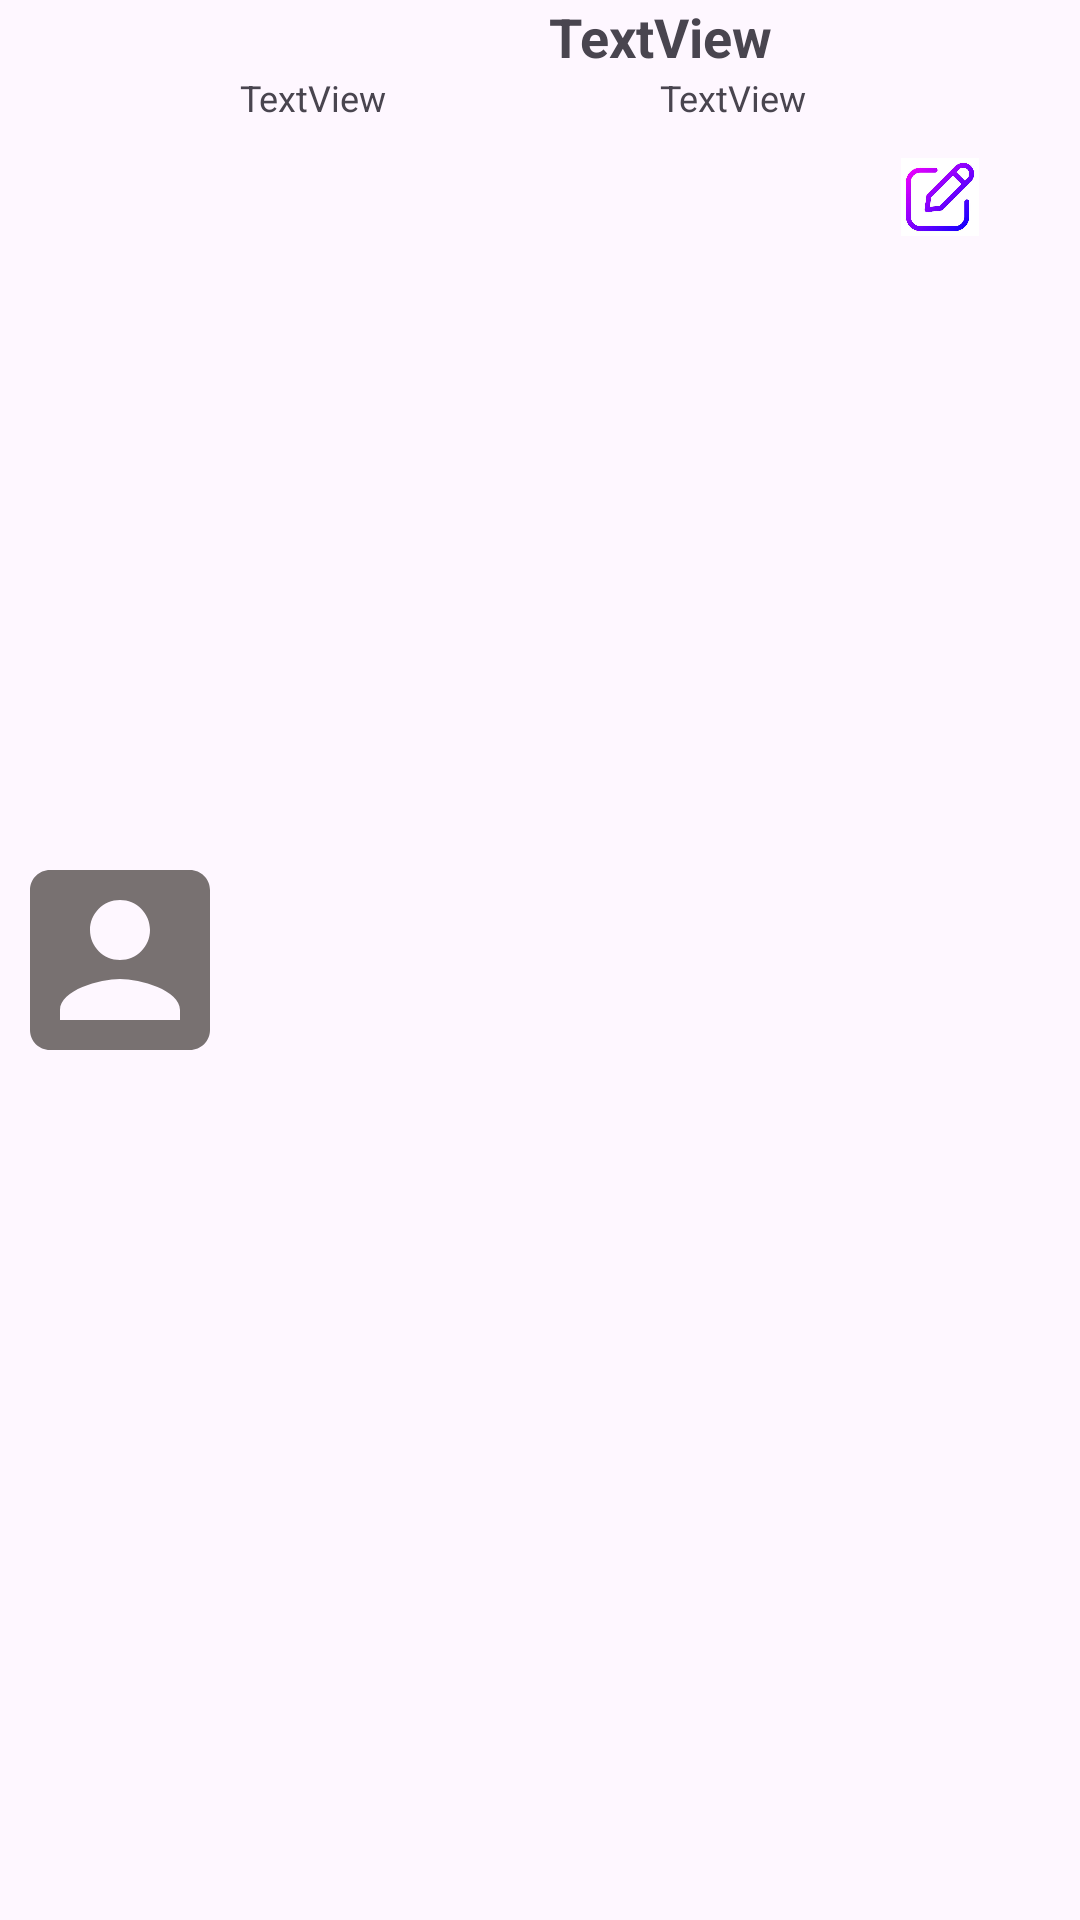

Locate icon controls on the screen. Image size 1080px x 1920px, boxes as (left=x1, top=y1, right=x2, bottom=y2).
account box: (left=30, top=870, right=210, bottom=1050)
editer: (left=906, top=163, right=974, bottom=231)
